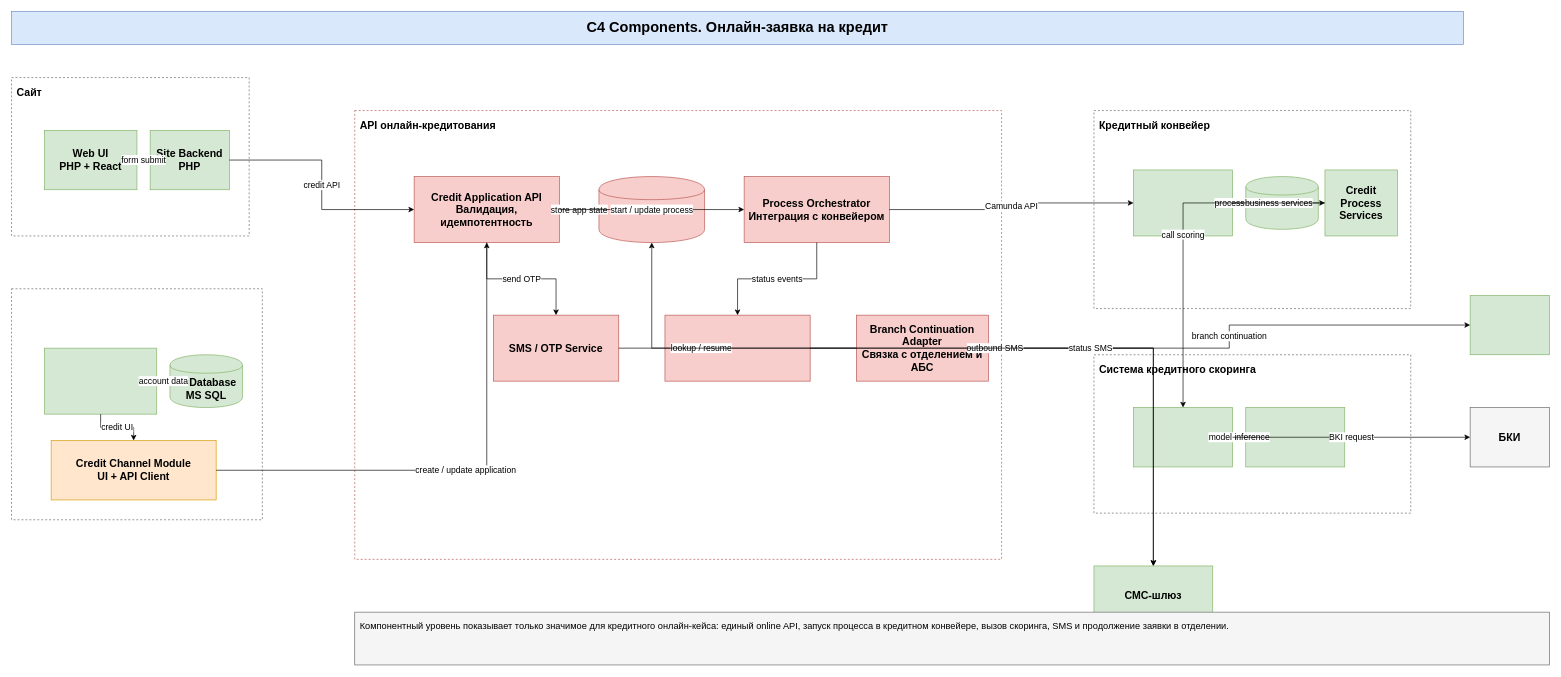
Some shapes in this 1561 by 677 pixel diagram are drawn without their labels. The box of each missing label's shape, as (x1, y1, x2, y2) in pixels:
Application Store IDs, статусы, трассировка: (598, 176, 705, 243)
ML Model Service: (1245, 407, 1345, 467)
Pipeline DB Oracle: (1245, 176, 1318, 229)
Process Engine Camunda: (1133, 169, 1233, 236)
Scoring API Flask: (1133, 407, 1233, 467)
Status and Notification Service: (664, 314, 810, 381)
Web Monolith ASP.NET MVC 4.5: (44, 347, 157, 414)
АБС: (1469, 295, 1549, 355)
Интернет-банк: (11, 288, 262, 520)
